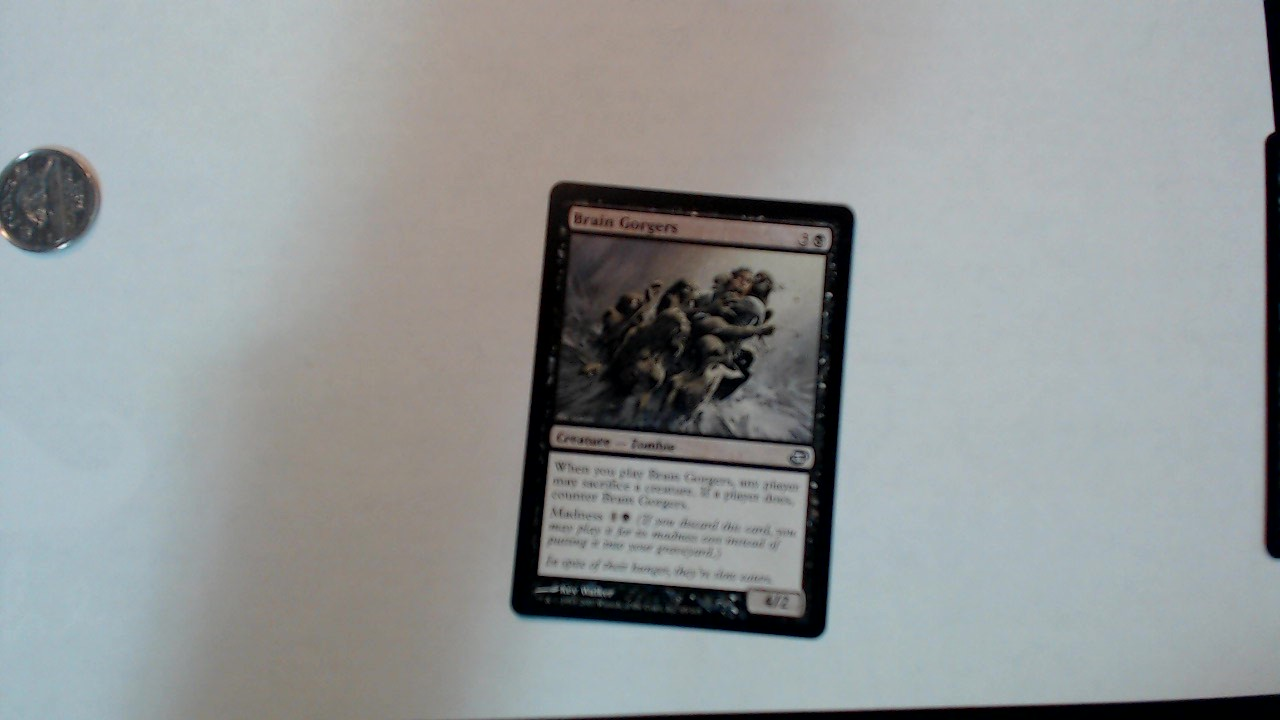MTG Card: (498, 158, 866, 660)
